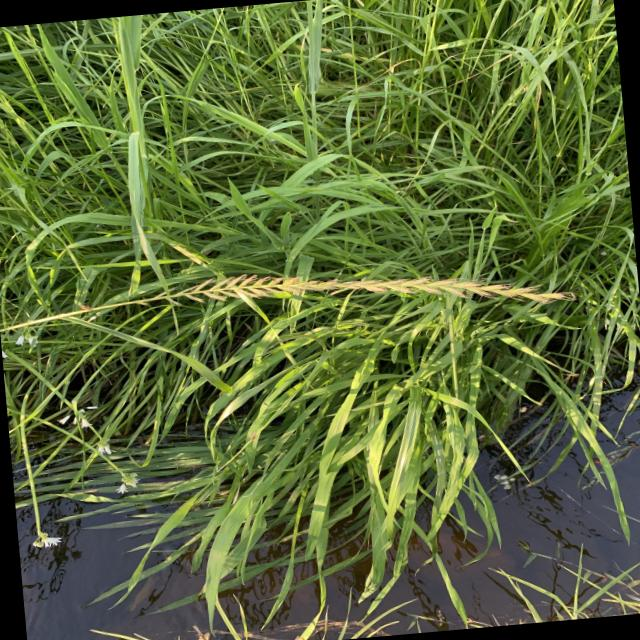Lolium: (163, 244, 577, 342)
